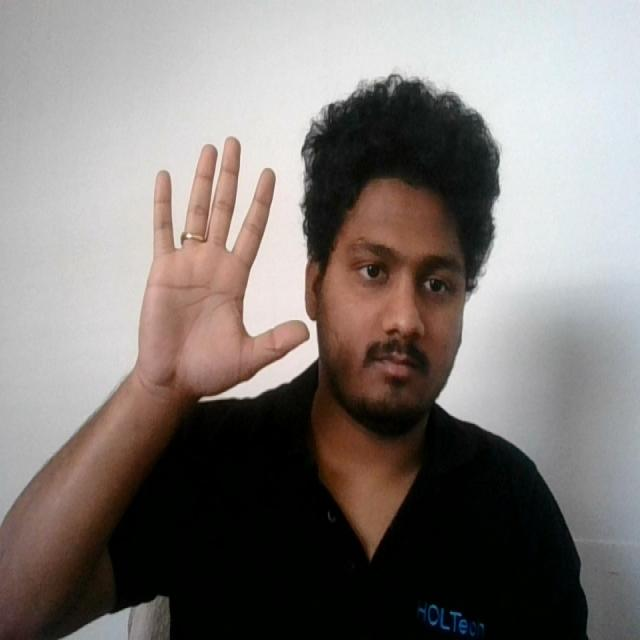Hello: (132, 132, 312, 418)
